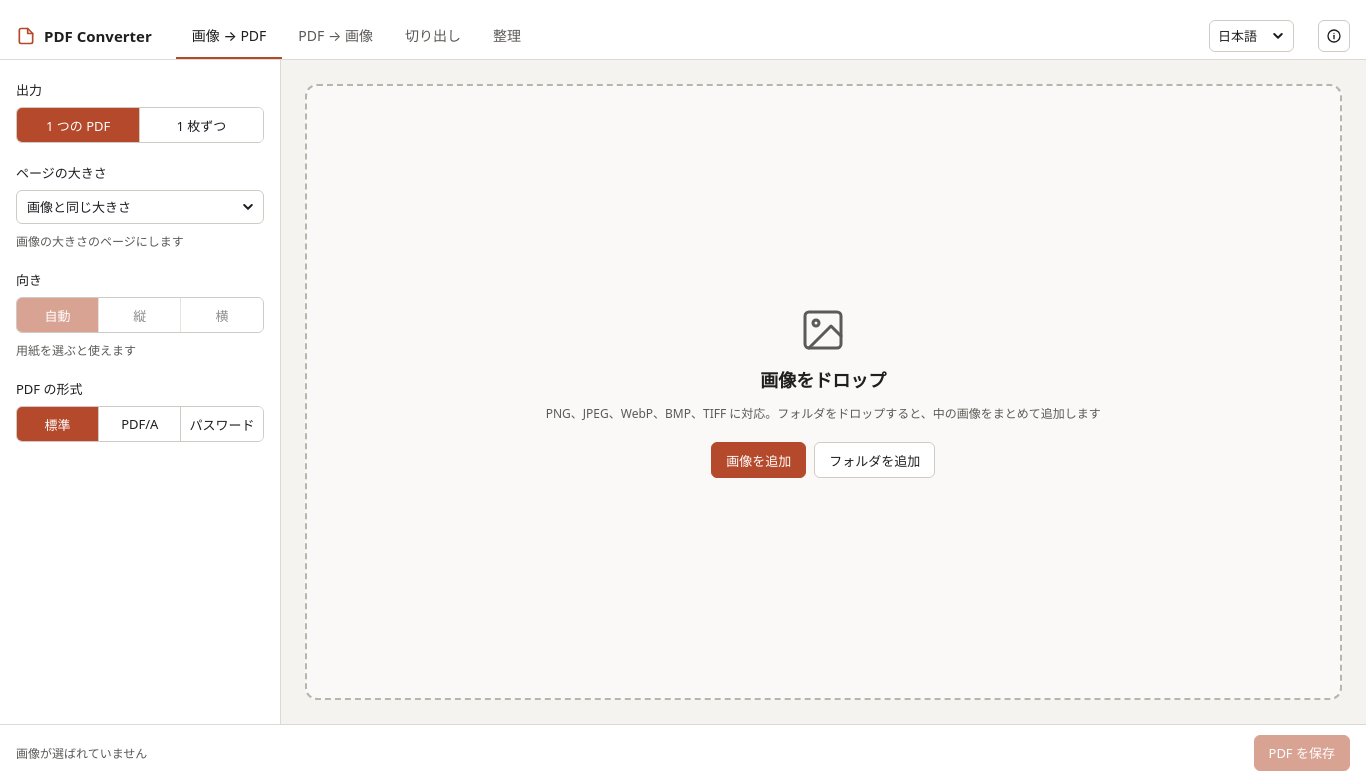
Scenario: adding PDFs › tells what was left out, as the lists do
Click the tab "整理" at (507, 36), box [477,12,537,59]
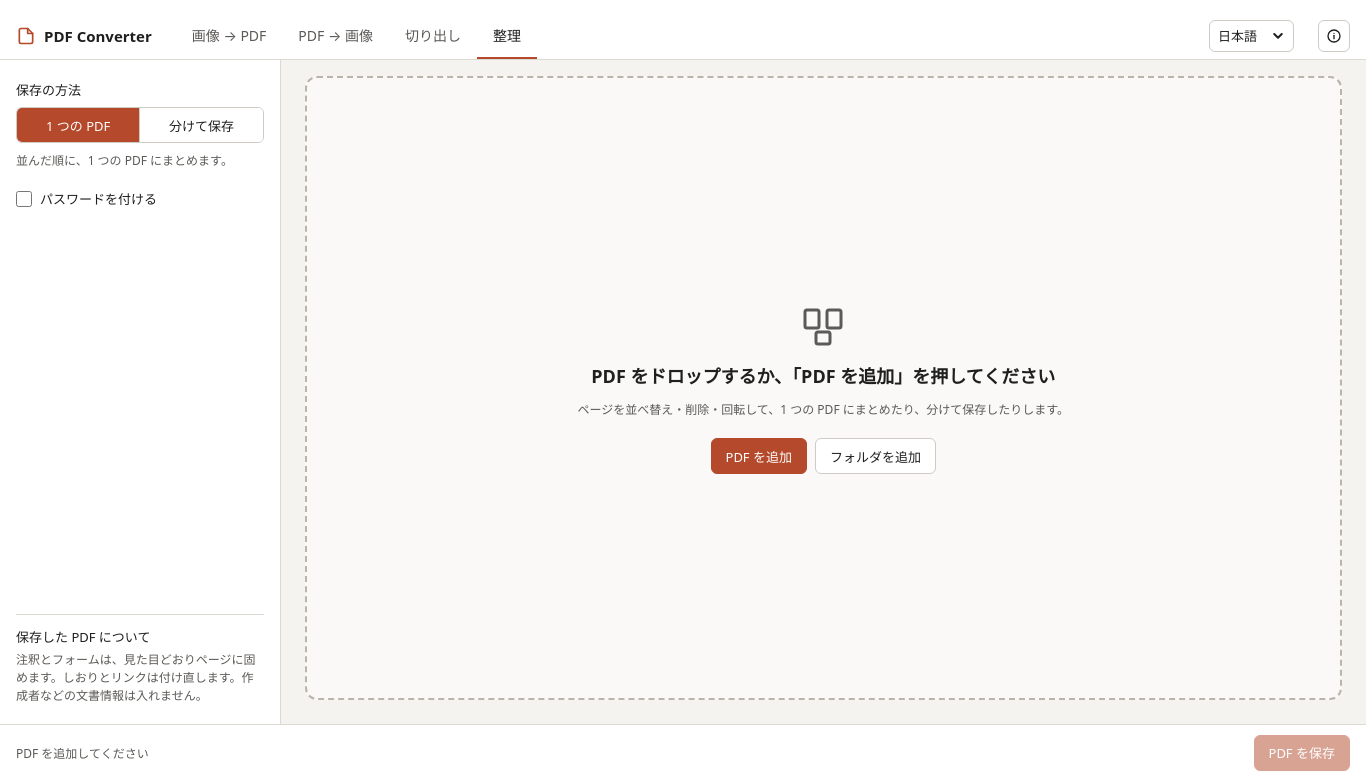
Click the button "PDF を追加" at (759, 456), box [710,438,807,474]
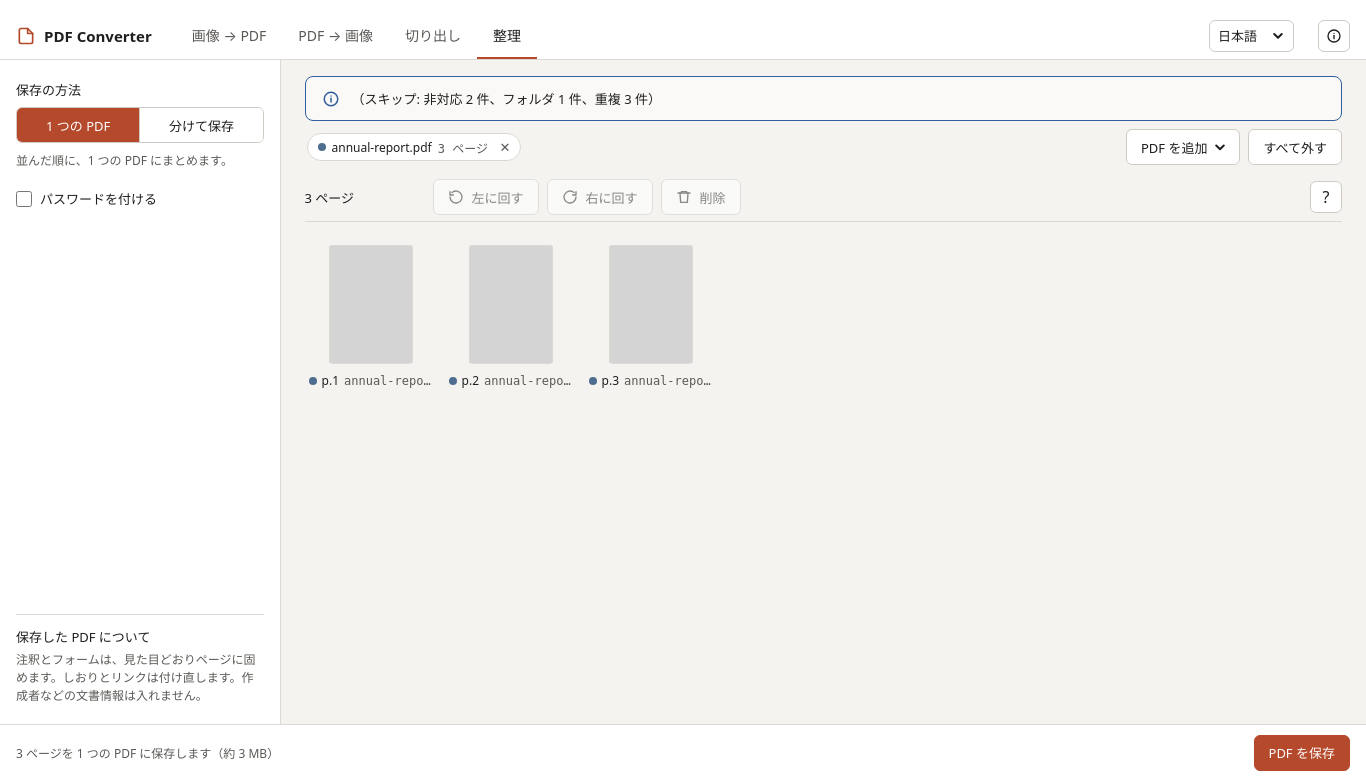
Expected: the text "（スキップ: 非対応 2 件、フォルダ 1 件、重複 3 件）" is shown, [352,89,661,108]
